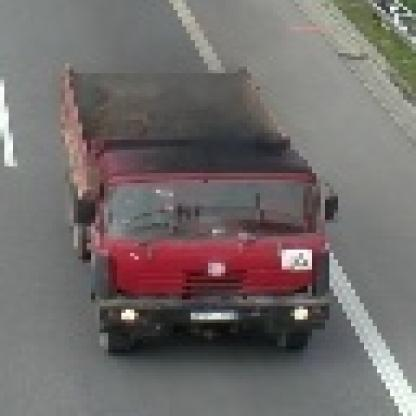truck: (53, 58, 335, 361)
